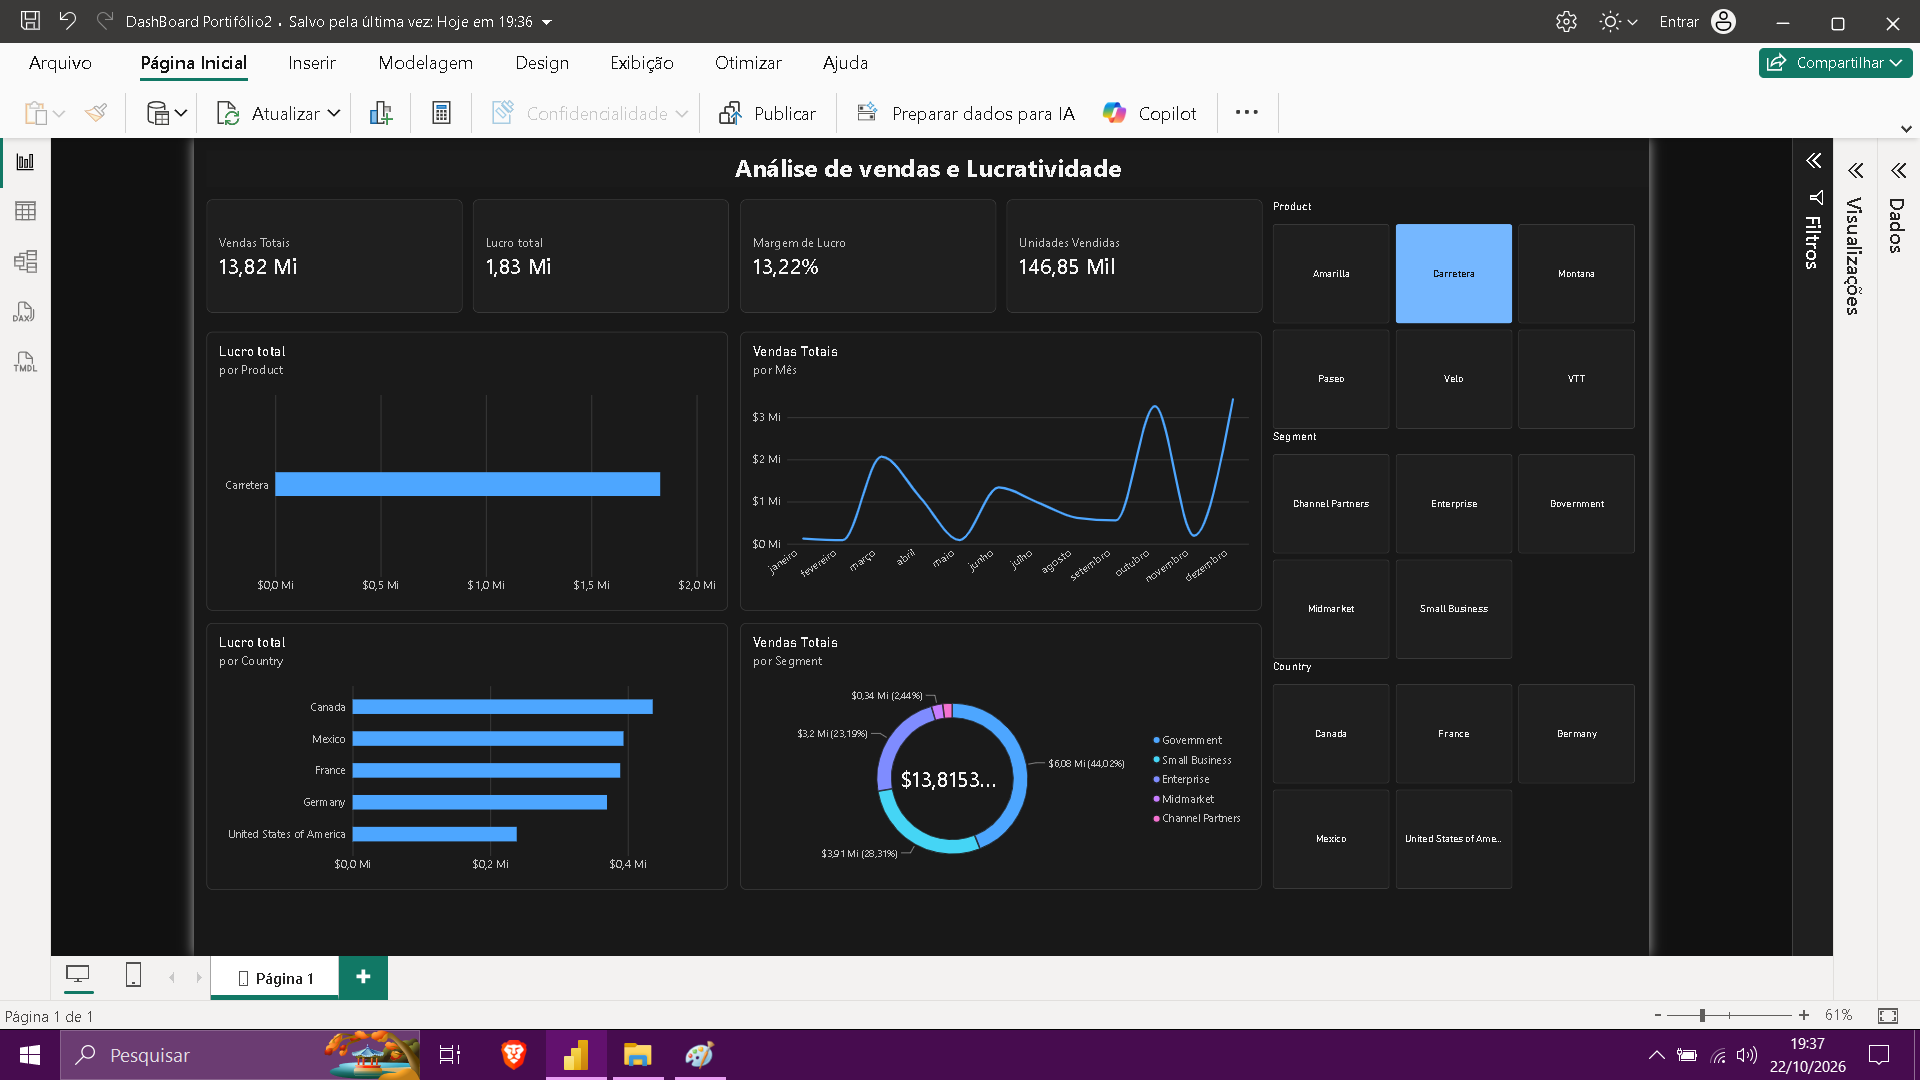

The page's visual inventory and layout, read from the dashboard file:
{"tool":"powerbi","page":{"name":"Página 1","canvas":[1920,1080],"ordinal":0},"visuals":[{"type":"textbox","box":[16,16,1904,48],"z":0},{"type":"cardVisual","fields":{"Data":["financials.Vendas Totais"]},"box":[16,80,338.5,150.3],"z":1000},{"type":"cardVisual","fields":{"Data":["financials.Lucro total"]},"box":[368,80,338.5,150.3],"z":2000},{"type":"cardVisual","fields":{"Data":["financials.Margem de Lucro"]},"box":[720,80,338.5,150.3],"z":3000},{"type":"cardVisual","fields":{"Data":["financials.Unidades Vendidas"]},"box":[1072,80,338.5,150.3],"z":4000},{"type":"lineChart","fields":{"Category":["financials.Date.Variação.Hierarquia de datas.Ano","financials.Date.Variação.Hierarquia de datas.Trimestre","financials.Date.Variação.Hierarquia de datas.Mês","financials.Date.Variação.Hierarquia de datas.Dia"],"Y":["financials.Vendas Totais"]},"box":[720,256,688,368],"z":5000},{"type":"clusteredBarChart","fields":{"Category":["financials.Product"],"Y":["financials.Lucro total"]},"box":[16,256,688,368],"z":6000},{"type":"donutChart","fields":{"Category":["financials.Segment"],"Y":["financials.Vendas Totais"]},"box":[720,640,688,352],"z":7000},{"type":"clusteredBarChart","fields":{"Category":["financials.Country"],"Y":["financials.Lucro total"]},"box":[16,640,688,352],"z":8000},{"type":"advancedSlicerVisual","fields":{"Values":["financials.Country"]},"box":[1424,688,480,304],"z":9000},{"type":"advancedSlicerVisual","fields":{"Values":["financials.Segment"]},"box":[1424,384,480,304],"z":10000},{"type":"advancedSlicerVisual","fields":{"Values":["financials.Product"]},"box":[1424,80,480,304],"z":11000}]}

Visuals, with their boxes on the page's 1920x1080 design canvas (x1, y1, x2, y2). These are canvas units, not pixel positions in the 1920x1080 screenshot, which may show the page scaled, cropped or inside an application window:
textbox: box(16, 16, 1920, 64)
cardVisual - financials.Vendas Totais: box(16, 80, 354, 230)
cardVisual - financials.Lucro total: box(368, 80, 706, 230)
cardVisual - financials.Margem de Lucro: box(720, 80, 1058, 230)
cardVisual - financials.Unidades Vendidas: box(1072, 80, 1410, 230)
lineChart - financials.Date.Variação.Hierarquia de datas.Ano x financials.Date.Variação.Hierarquia de datas.Trimestre: box(720, 256, 1408, 624)
clusteredBarChart - financials.Product x financials.Lucro total: box(16, 256, 704, 624)
donutChart - financials.Segment x financials.Vendas Totais: box(720, 640, 1408, 992)
clusteredBarChart - financials.Country x financials.Lucro total: box(16, 640, 704, 992)
advancedSlicerVisual - financials.Country: box(1424, 688, 1904, 992)
advancedSlicerVisual - financials.Segment: box(1424, 384, 1904, 688)
advancedSlicerVisual - financials.Product: box(1424, 80, 1904, 384)
